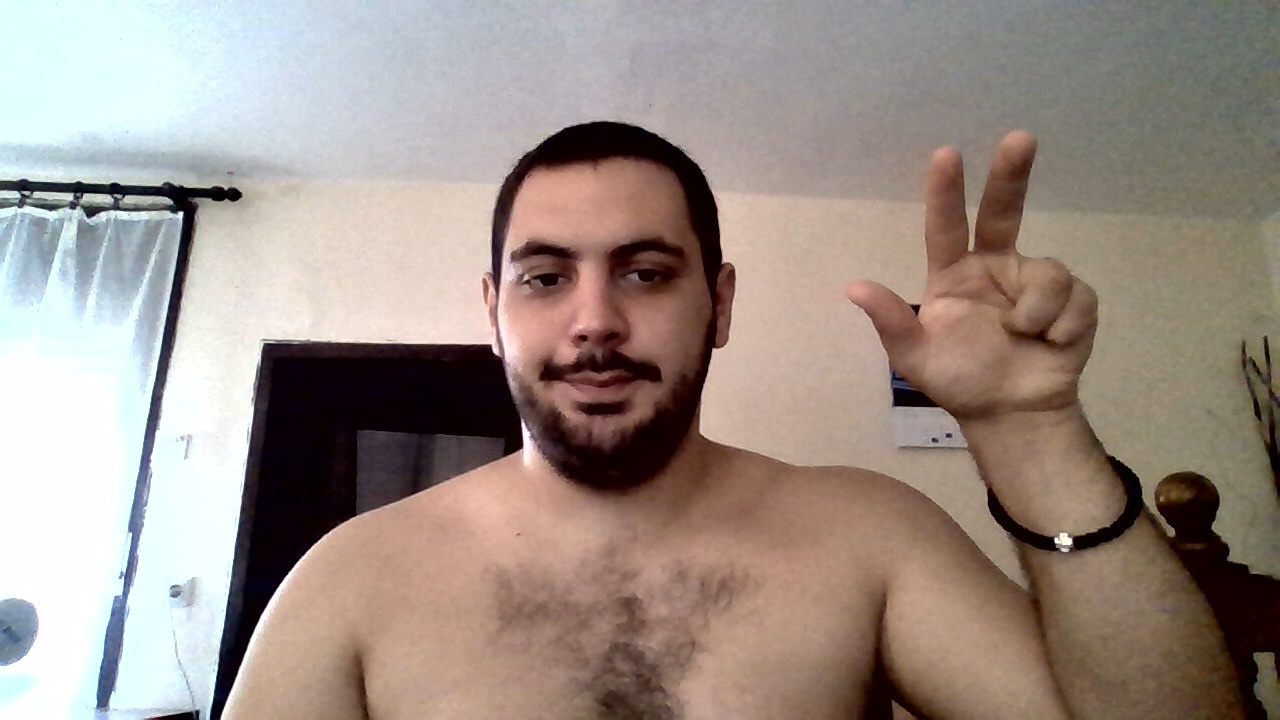serbia: (845, 130, 1110, 411)
